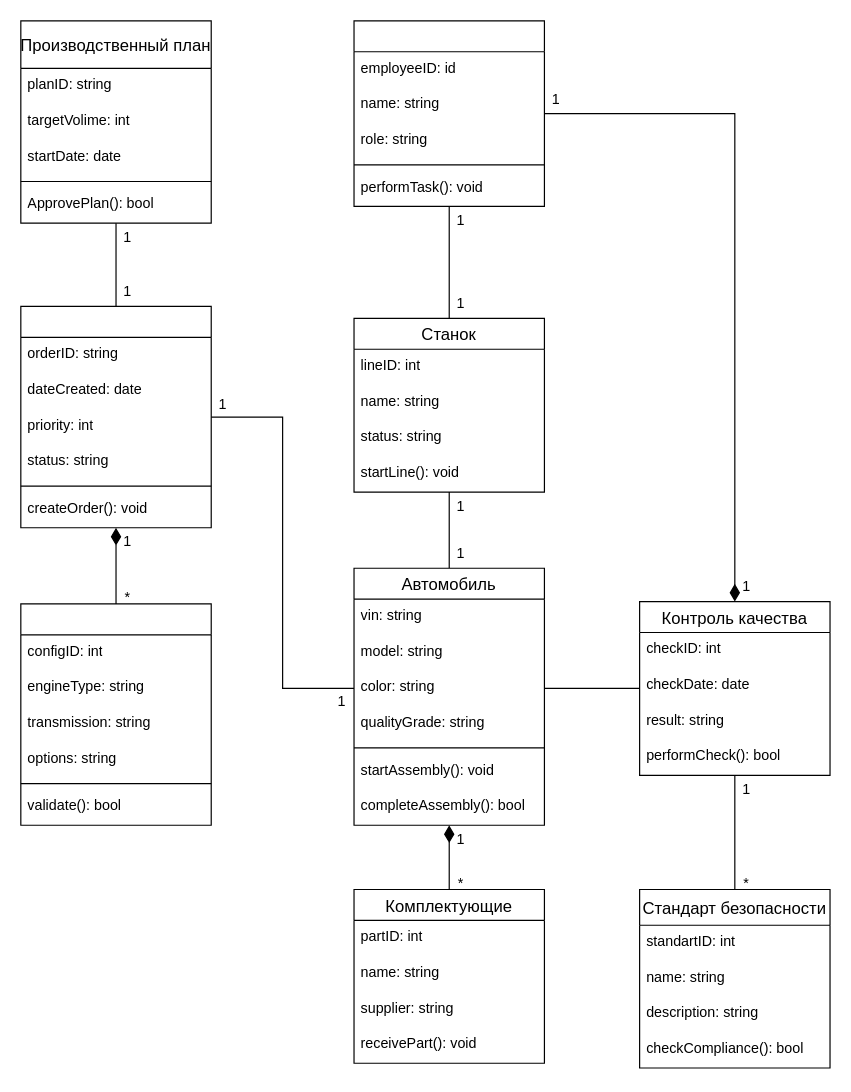
Image size: 851x1092. Some labels were removed from this diagram. Each missing label, with the box of its shape:
Заказ на производство: (20, 305, 211, 528)
Конфигурация: (20, 603, 211, 825)
Оператор: (353, 20, 544, 206)
